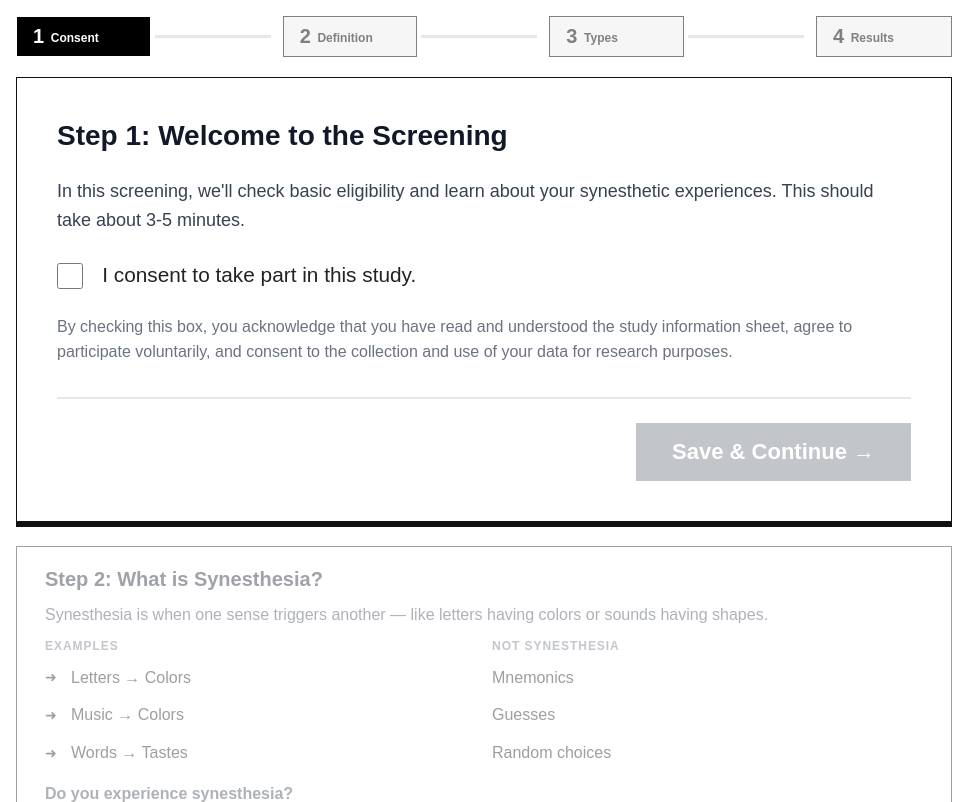
Test case: ScreeningFlow › enables continue button after consent
The width and height of the screenshot is (969, 802).
Click the checkbox labelled "I consent to take part in this study.". click: (70, 276)
box: left=57, top=263, right=83, bottom=289
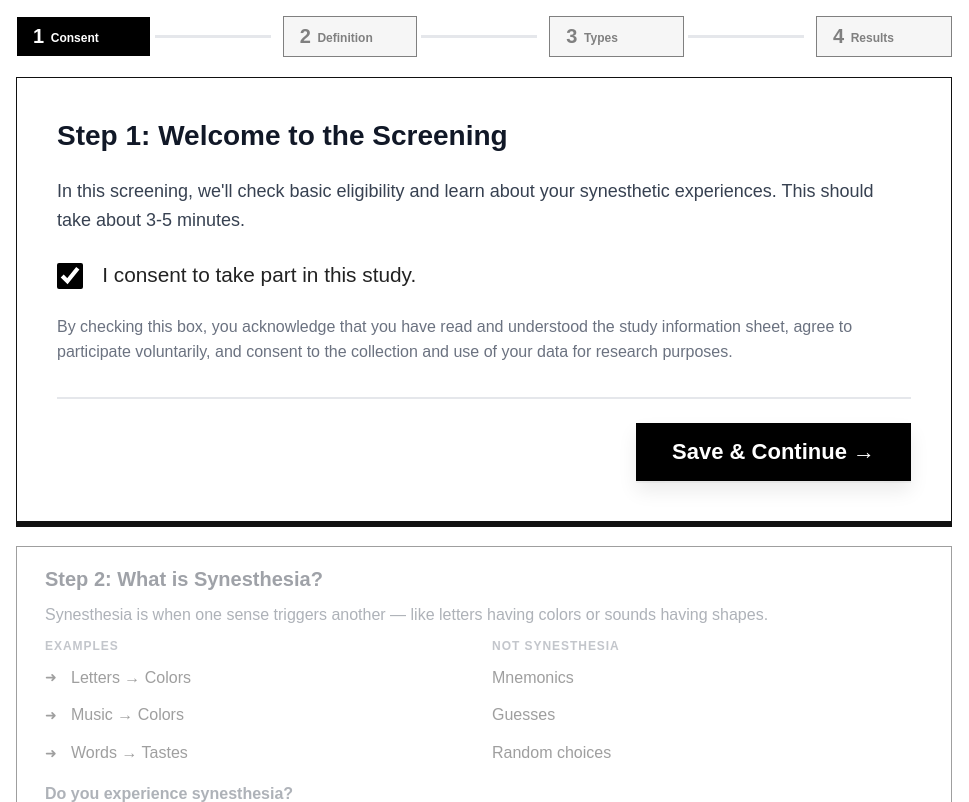
Check: the button "Save & Continue →" is enabled, box left=636, top=423, right=911, bottom=481
